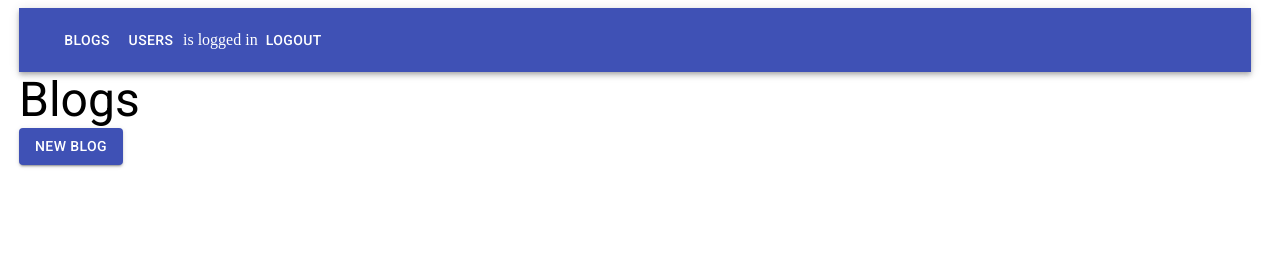
Test: Blog app › When logged in › can log out
The image size is (1271, 275).
What coordinates should you click on to do the following:
click the button with id "logout"
I would click on:
 (294, 40)
Its box is 266,32 -> 322,48.
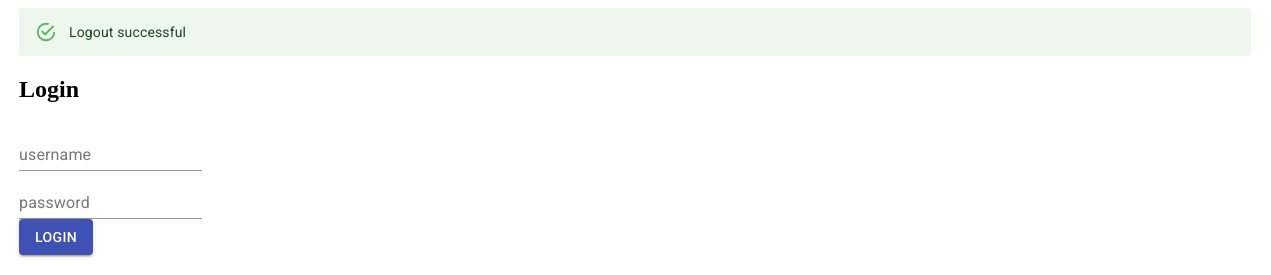
Expected: the text "Logout successful" is shown, 69,24 -> 186,40
